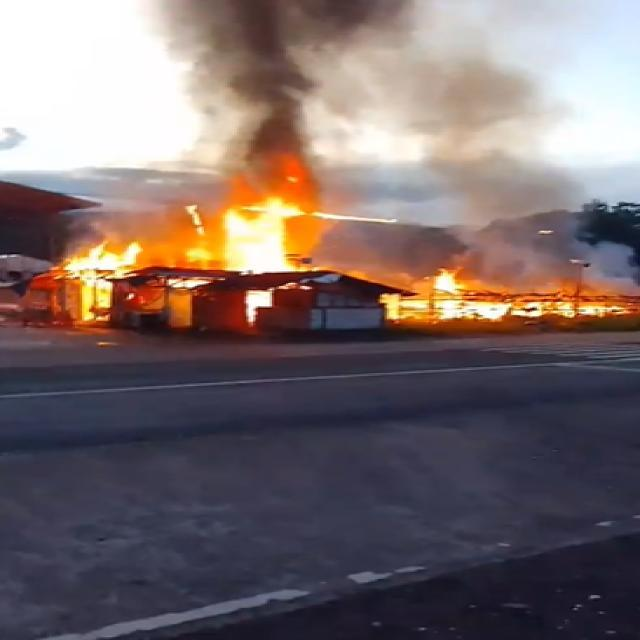Fire: (190, 176, 320, 264), (412, 270, 622, 322), (61, 244, 136, 315), (247, 288, 275, 318)
Smoke: (378, 63, 613, 284), (168, 0, 396, 191)
